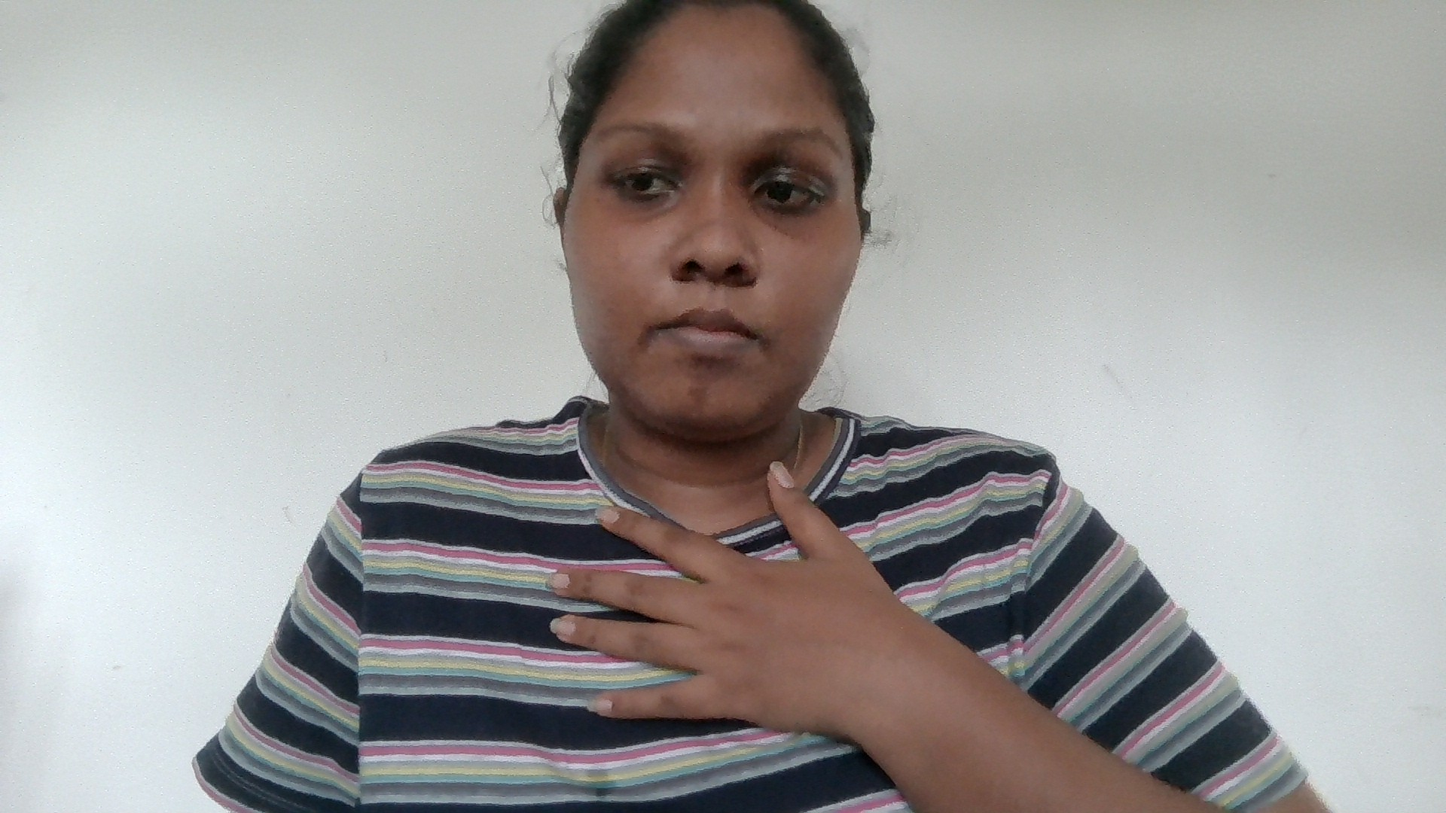Please: (531, 471, 911, 750)
